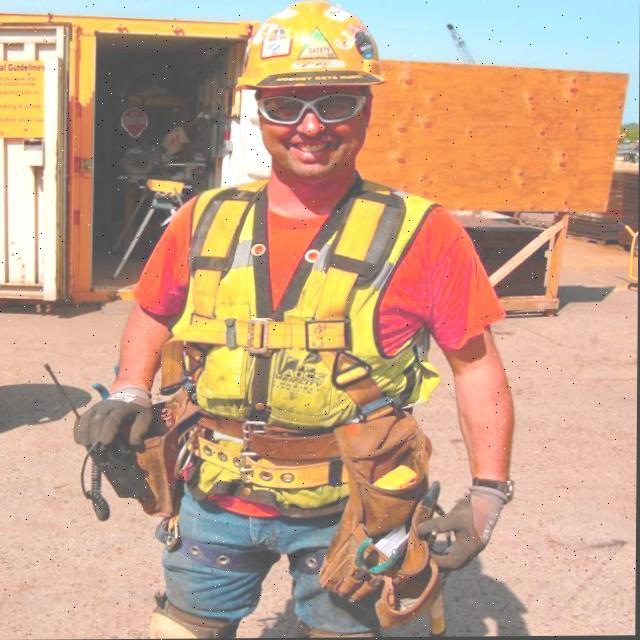goggles_on: (251, 90, 377, 131)
